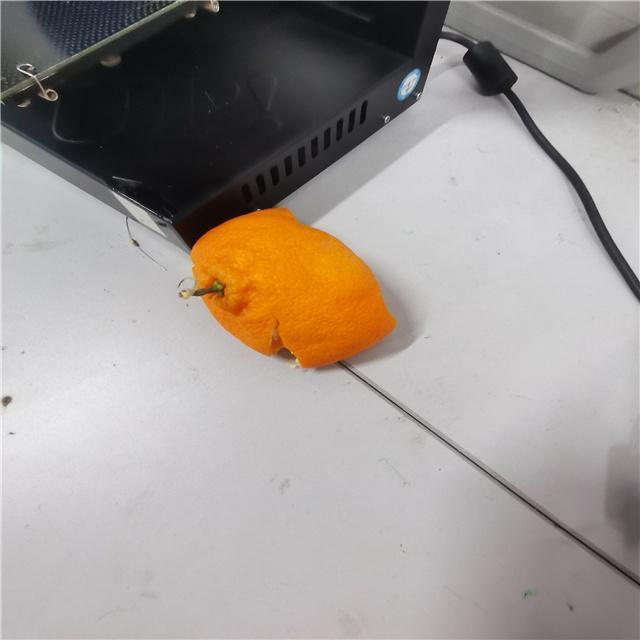orange peel: (190, 205, 399, 371)
